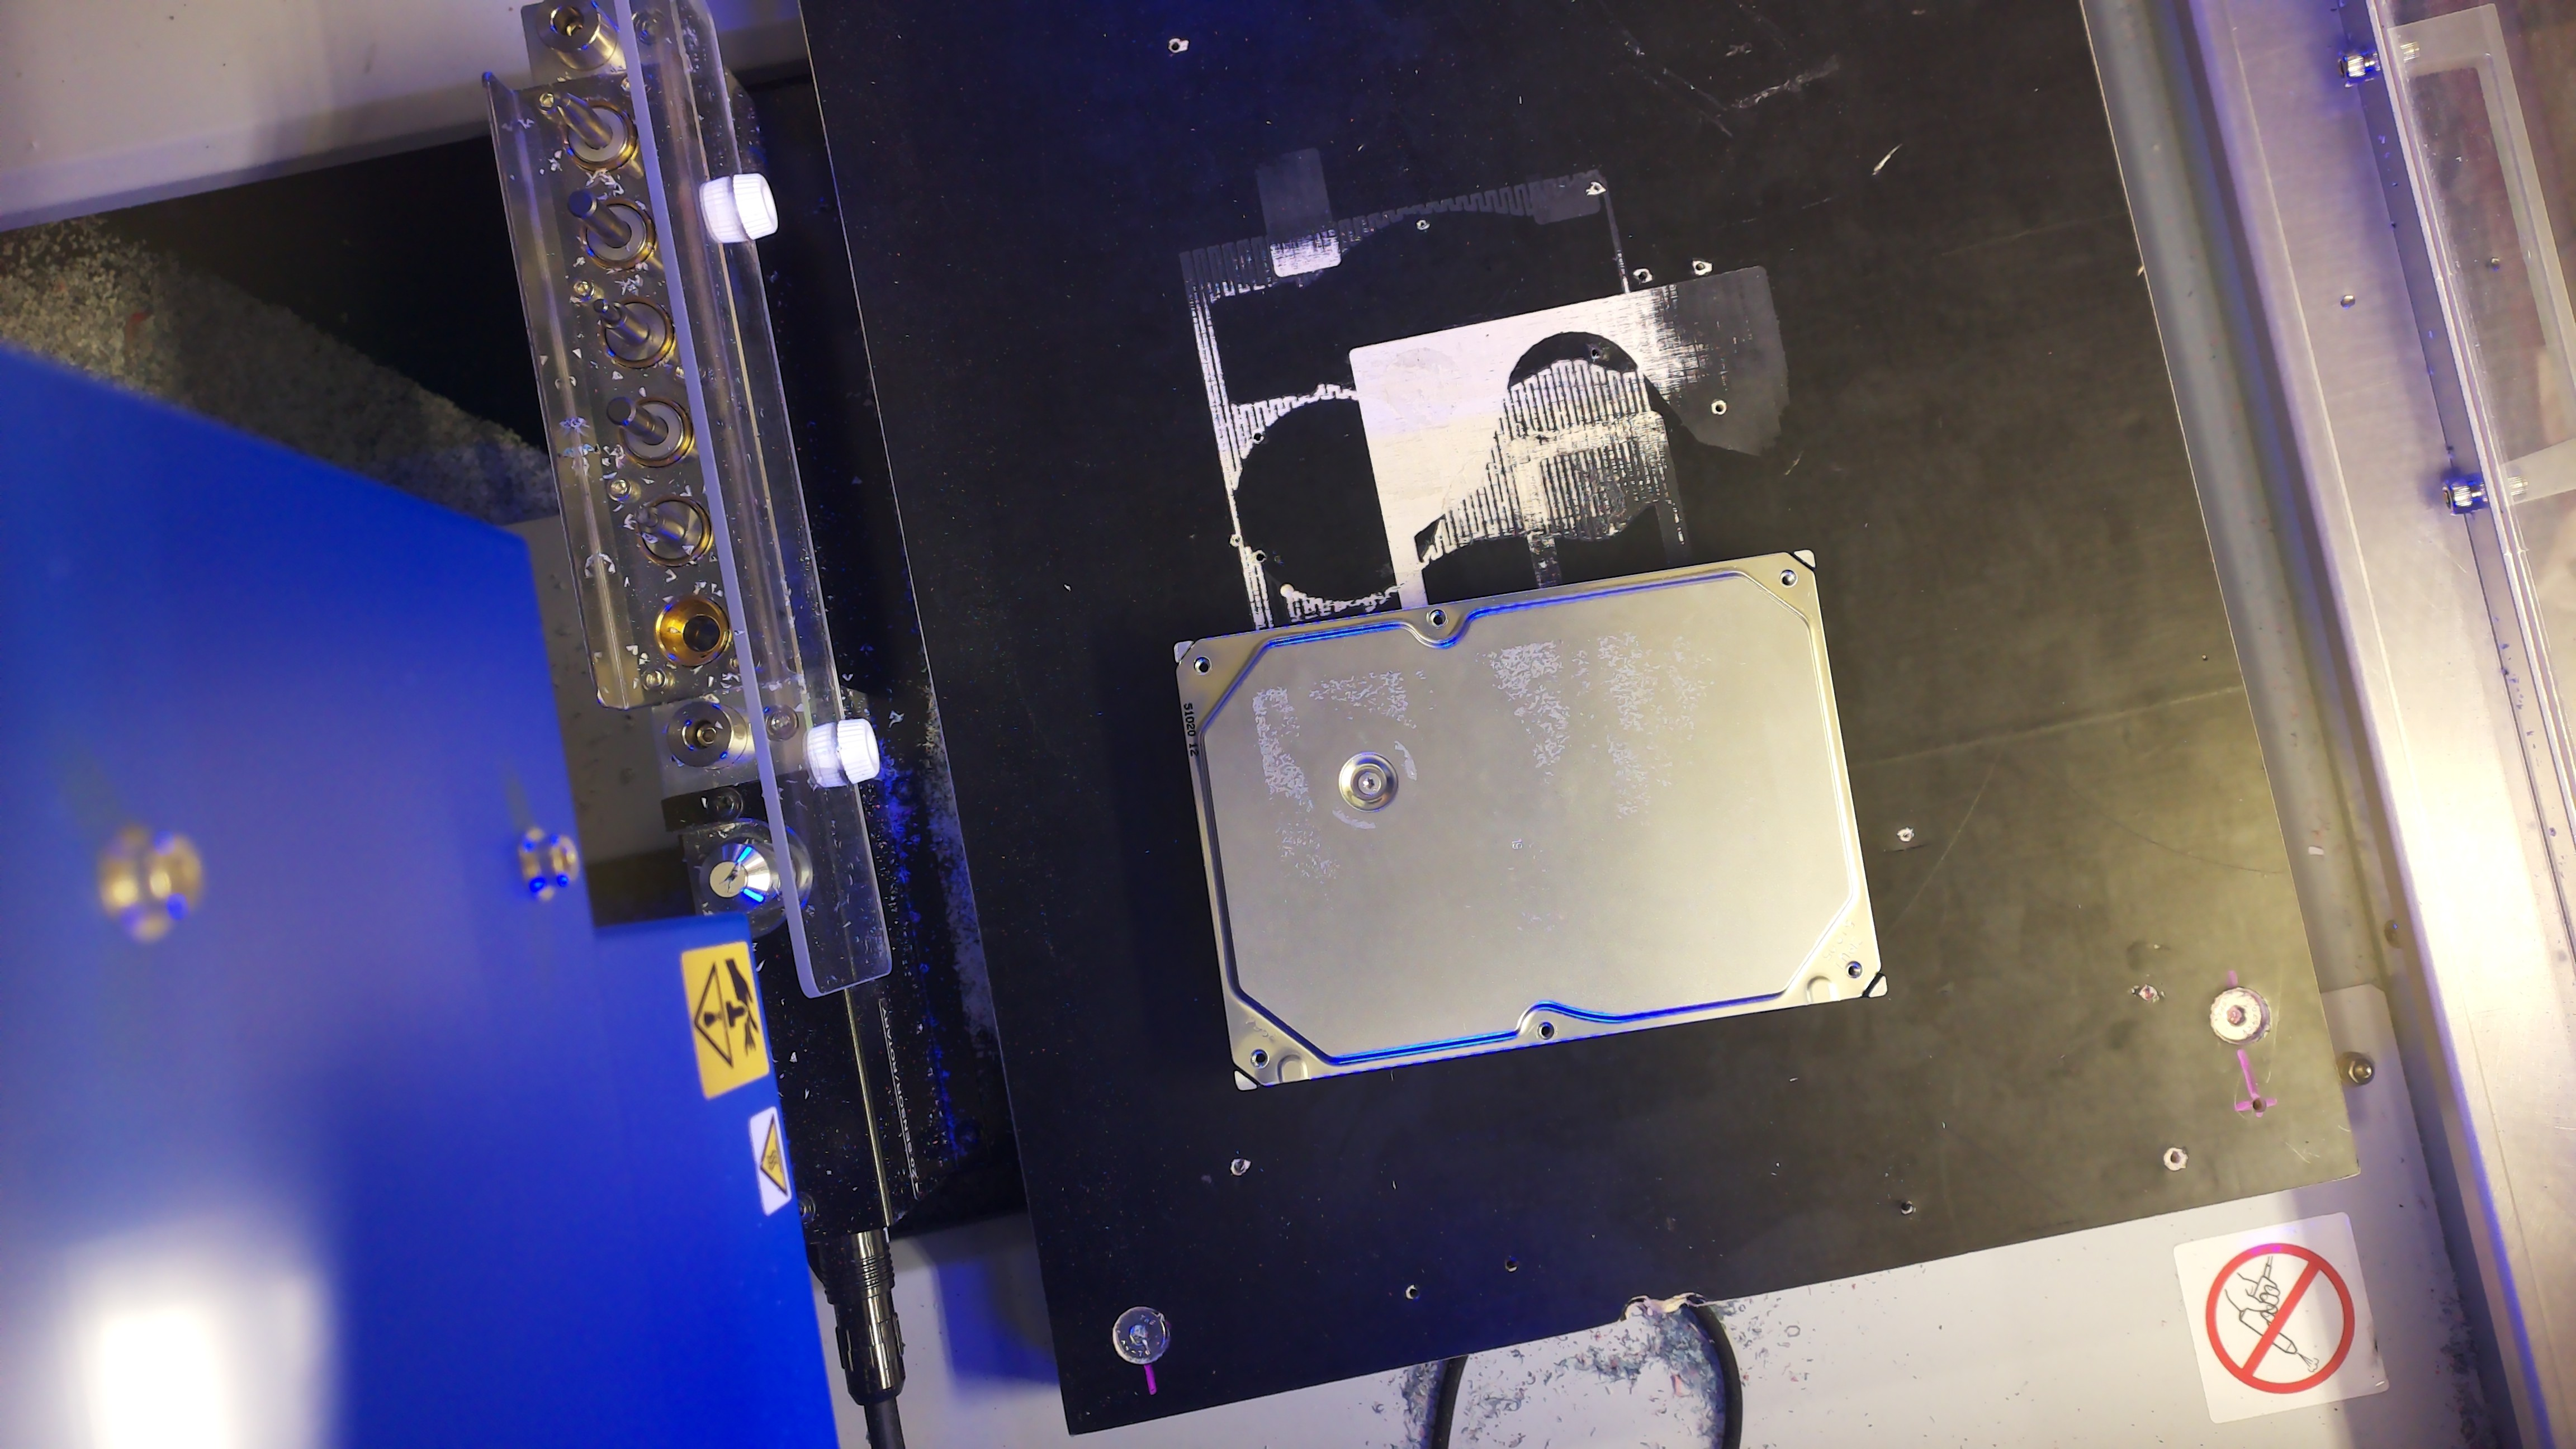Hole: (1247, 1047, 1270, 1070), (1536, 1021, 1557, 1040), (1428, 607, 1447, 628), (1778, 568, 1798, 587), (1845, 961, 1863, 980), (1192, 656, 1212, 674)
Screw: (1359, 771, 1382, 794)
